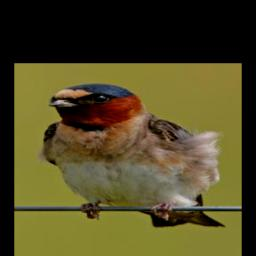Swallow: (36, 83, 227, 229)
